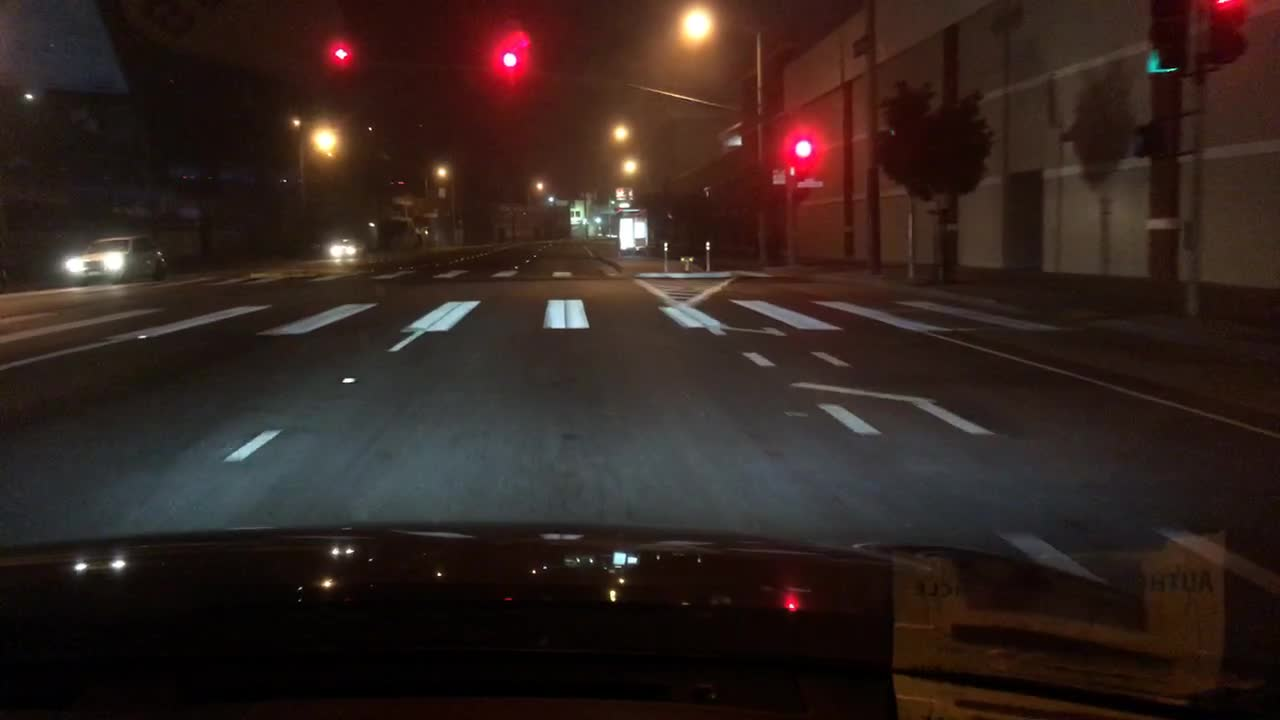car: (63, 237, 167, 286), (331, 235, 363, 258)
traffic light: (1146, 0, 1181, 77), (1212, 0, 1245, 62), (794, 138, 811, 168), (501, 52, 516, 84), (335, 46, 350, 72)
traffic sign: (797, 179, 822, 187)
